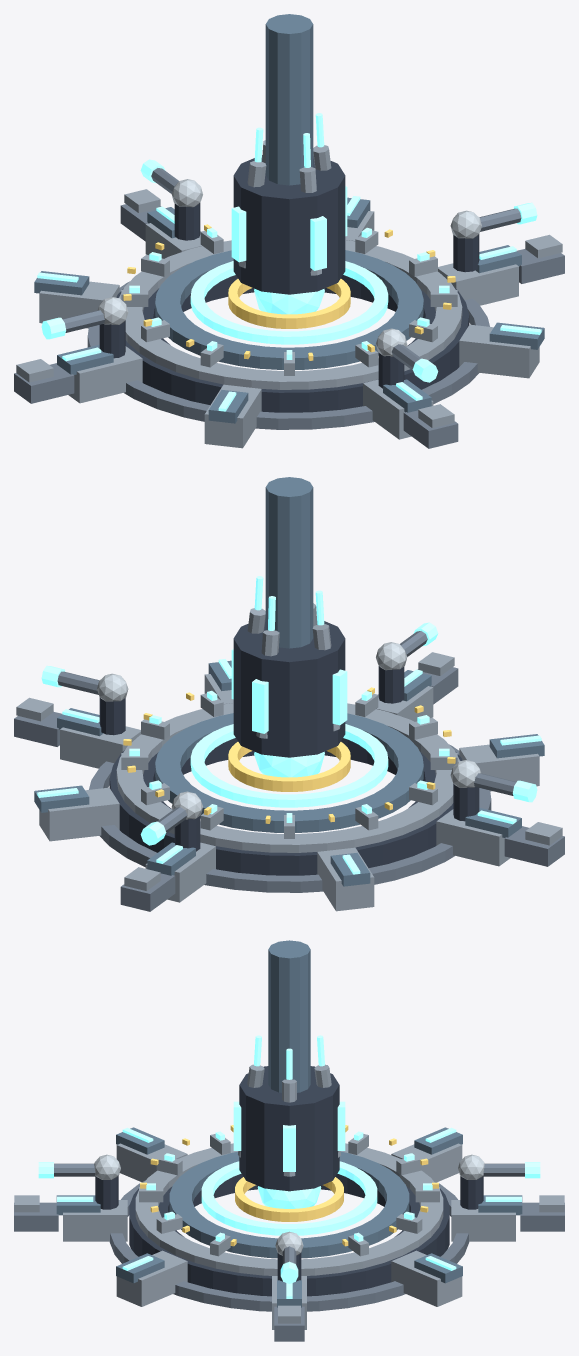
The model's file is relay_1_neutral.glb.
3 renders of one model, top to bottom at view 1: azimuth 30°, elevation 25°; view 2: azimuth 150°, elevation 25°; view 3: azimuth 270°, elevation 25°, orthographic. The views are drawn at different scales.
Parts seen in each view (by area): view 1: RLY_1, RLY_2, RLY_0, RLY_3, RLY_4, RLY_5, RLY_6; view 2: RLY_1, RLY_2, RLY_0, RLY_3, RLY_4, RLY_5, RLY_6; view 3: RLY_1, RLY_0, RLY_2, RLY_3, RLY_4, RLY_5, RLY_6.
Boxes of the visible parts, x1,y1,x2,y2 form: RLY_1: [16, 140, 562, 448]; RLY_2: [34, 14, 544, 423]; RLY_0: [99, 155, 479, 412]; RLY_3: [37, 113, 541, 411]; RLY_4: [14, 168, 564, 448]; RLY_5: [123, 224, 455, 360]; RLY_6: [98, 179, 481, 356]; RLY_1: [16, 603, 562, 911]; RLY_2: [34, 477, 544, 886]; RLY_0: [99, 619, 479, 875]; RLY_3: [37, 576, 541, 874]; RLY_4: [14, 631, 564, 911]; RLY_5: [123, 687, 455, 823]; RLY_6: [97, 642, 480, 819]; RLY_1: [14, 1064, 564, 1329]; RLY_0: [95, 1066, 483, 1296]; RLY_2: [56, 940, 522, 1307]; RLY_3: [38, 1035, 540, 1298]; RLY_4: [14, 1163, 564, 1341]; RLY_5: [140, 1125, 438, 1246]; RLY_6: [94, 1154, 484, 1255].
Bounding box in the file's own units: 9.36 × 5.43 × 9.36.
